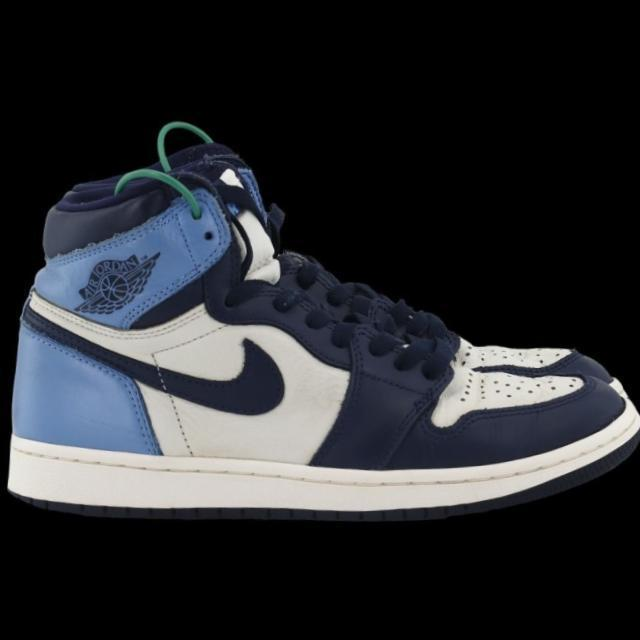nike original jordan 1: (0, 139, 640, 532), (39, 130, 638, 414)
